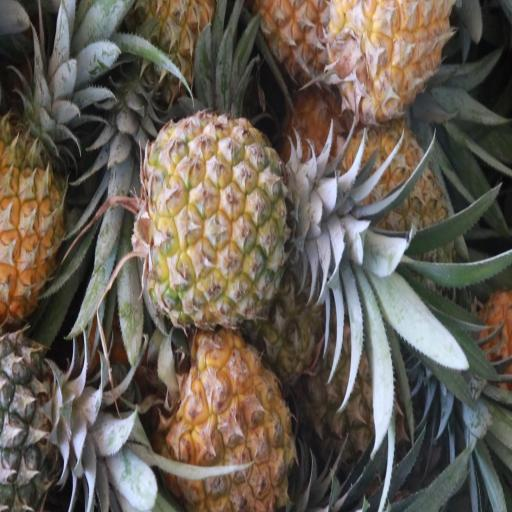------------------------------: (340, 128, 451, 292)
Pineapple - v8 v1: (144, 119, 289, 325), (165, 323, 288, 512), (332, 0, 452, 128), (0, 128, 72, 322)
